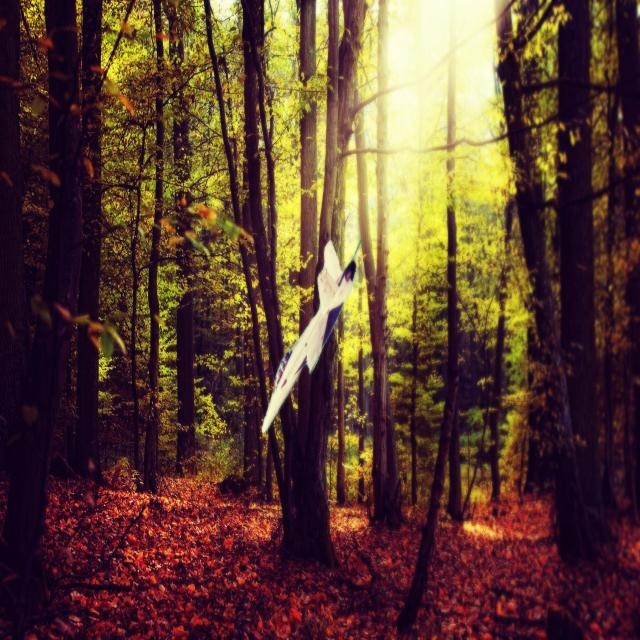airplane: (260, 237, 362, 436)
